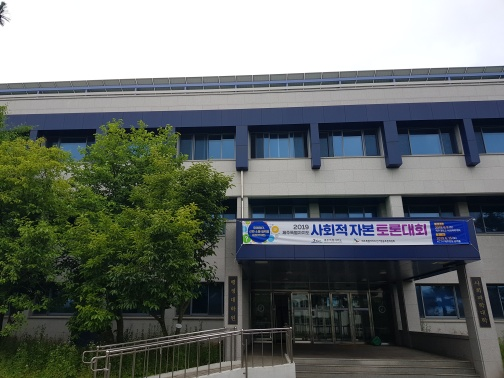College of Social Sciences: (20, 64, 501, 369), (217, 189, 499, 367), (222, 90, 488, 183)
